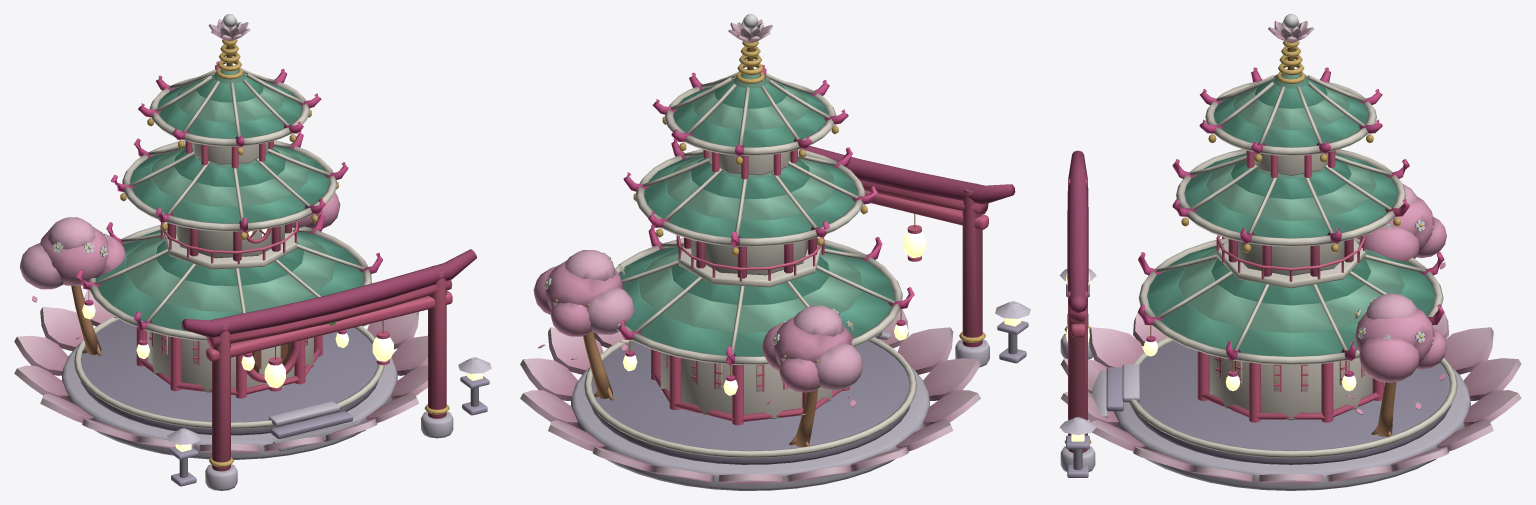
Rendered from leaf-leap-pagoda.glb.
The picture shows the model from 3 angles, left to right: view 1: azimuth 30°, elevation 25°; view 2: azimuth 150°, elevation 25°; view 3: azimuth 270°, elevation 25°; orthographic projection. The views are drawn at different scales.
Parts seen in each view (by area): view 1: W_LEAF_LEAP_PAGODA__base; view 2: W_LEAF_LEAP_PAGODA__base; view 3: W_LEAF_LEAP_PAGODA__base.
Boxes of the visible parts, left/top/right/bottom form: W_LEAF_LEAP_PAGODA__base: left=14, top=14, right=491, bottom=490; W_LEAF_LEAP_PAGODA__base: left=520, top=14, right=1030, bottom=490; W_LEAF_LEAP_PAGODA__base: left=1059, top=14, right=1521, bottom=490.
Bounding box in the file's own units: 2 × 1.9 × 1.97.
